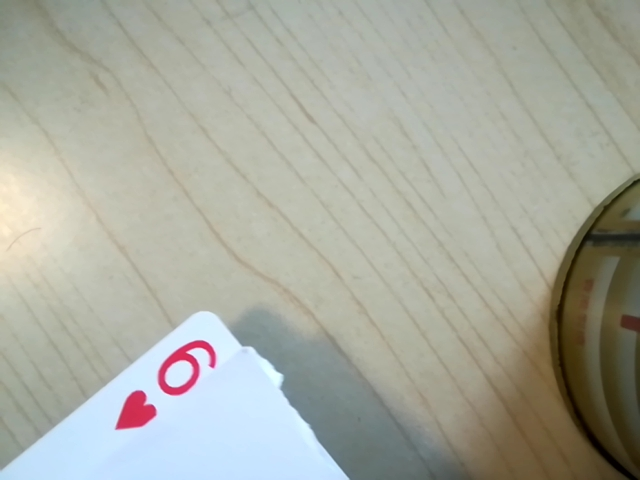hx 6: (120, 338, 231, 424)
